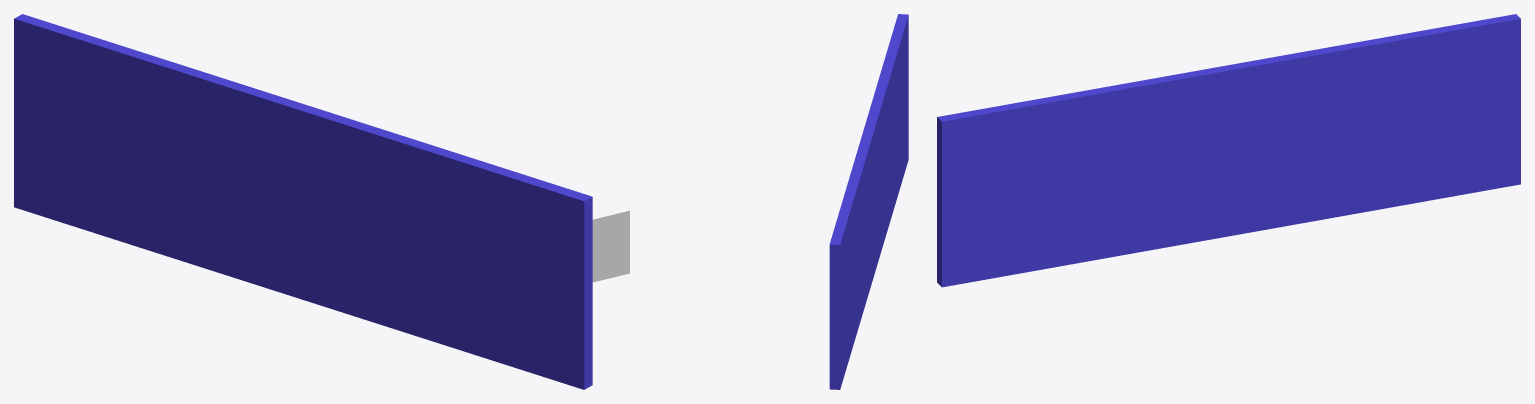
The model's file is interior-design_(1).gltf.
3 views of the same model, side by side, from view 1: azimuth 30°, elevation 25°; view 2: azimuth 150°, elevation 25°; view 3: azimuth 270°, elevation 25° (orthographic). The views are drawn at different scales.
Bounding box in the file's own units: 7.09 × 3.5 × 9.58.
